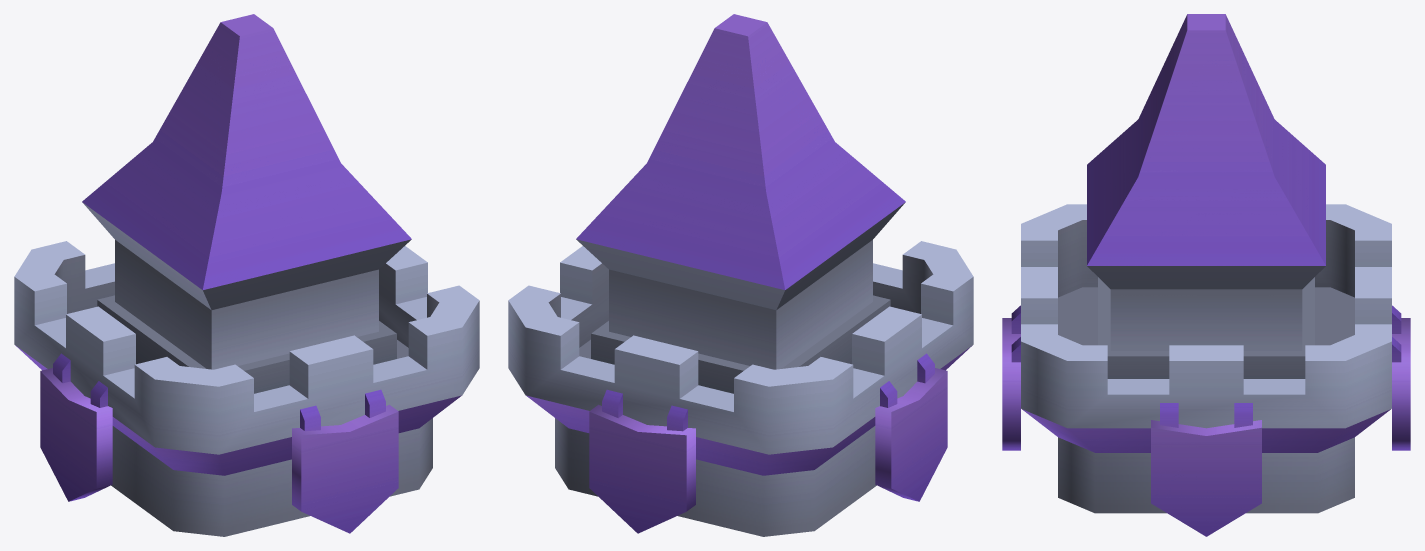
Rendered from tower-square-roof-a.glb.
3 views of the same model, side by side, from view 1: azimuth 30°, elevation 25°; view 2: azimuth 150°, elevation 25°; view 3: azimuth 270°, elevation 25° (orthographic).
Visible parts, largest first — view 1: tower-square-roof-a; view 2: tower-square-roof-a; view 3: tower-square-roof-a.
Boxes of the visible parts, <box> form: tower-square-roof-a: <box>14,14,479,536</box>; tower-square-roof-a: <box>508,14,973,536</box>; tower-square-roof-a: <box>1002,14,1410,536</box>.
Size of the model in its own units: 1.1 by 1.27 by 1.1.
Materials: 1 (1 with a texture image).
